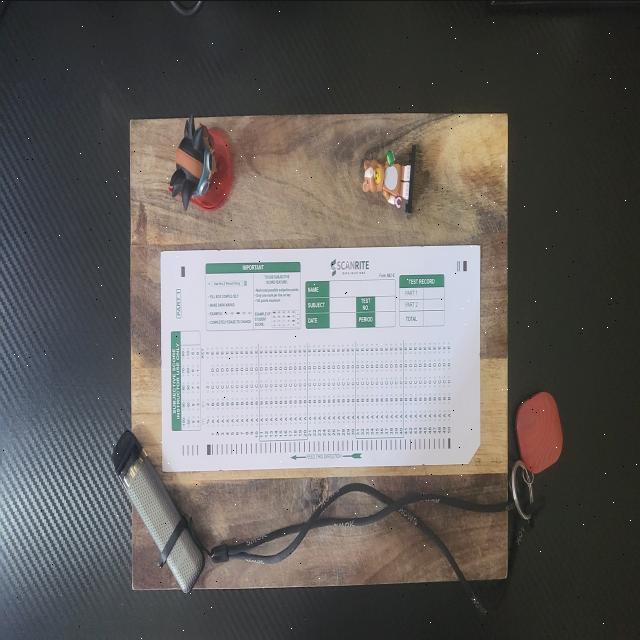scantron: (161, 244, 481, 471)
